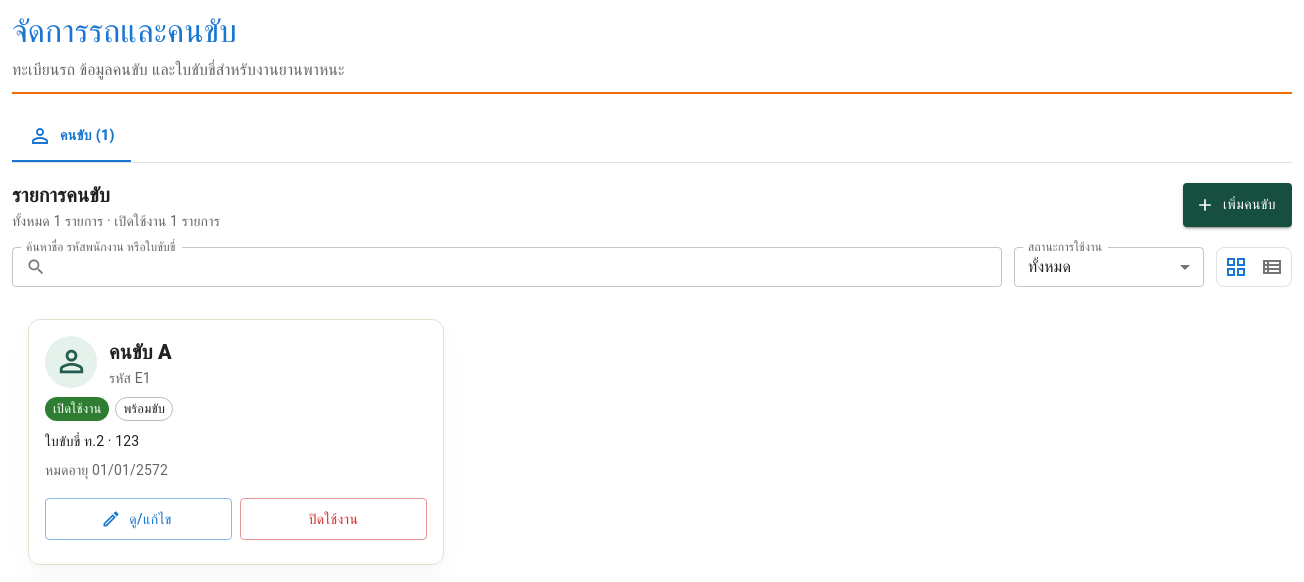
Test case: Fleet settings access and forms › keeps driver actions available after filtering by name
The image size is (1304, 582).
Expected: the heading "คนขับ A" is shown, 109,336 -> 172,368
Type "ไม่พบ" into the field labelled "ค้นหาชื่อ รหัสพนักงาน หรือใบขับขี่" at x=528, y=266, box 54,246 -> 1002,286
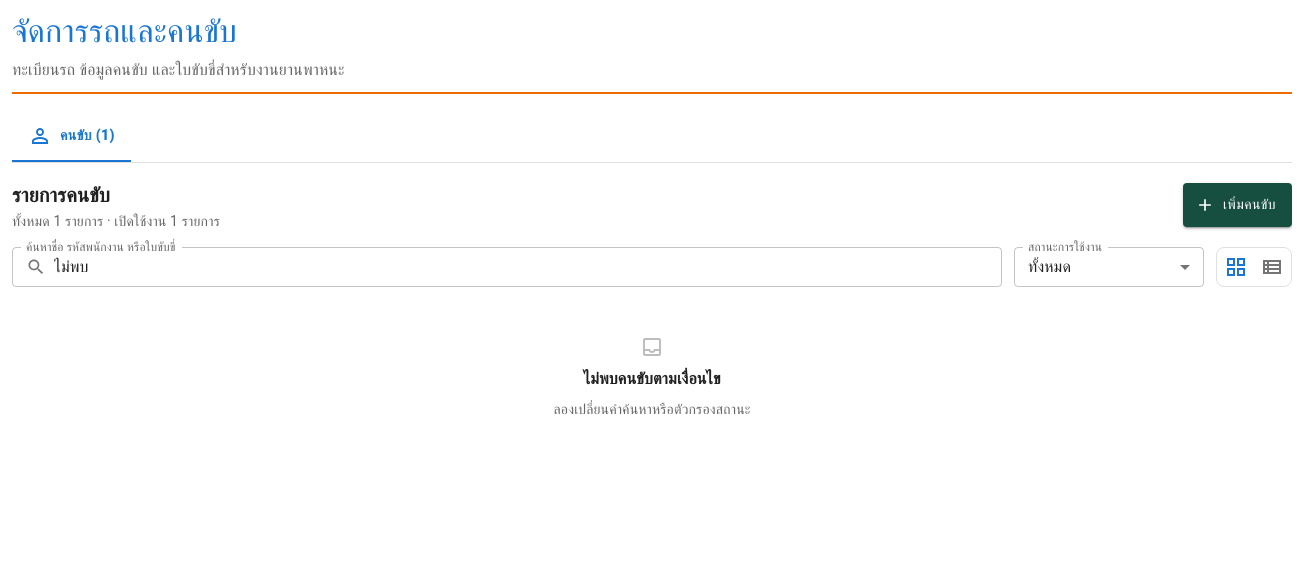
Now the text "ไม่พบคนขับตามเงื่อนไข" is shown, box 583,366 -> 721,390
Replace the text in the field labelled "ค้นหาชื่อ รหัสพนักงาน หรือใบขับขี่" with "E1" at x=528, y=266, box 54,246 -> 1002,286
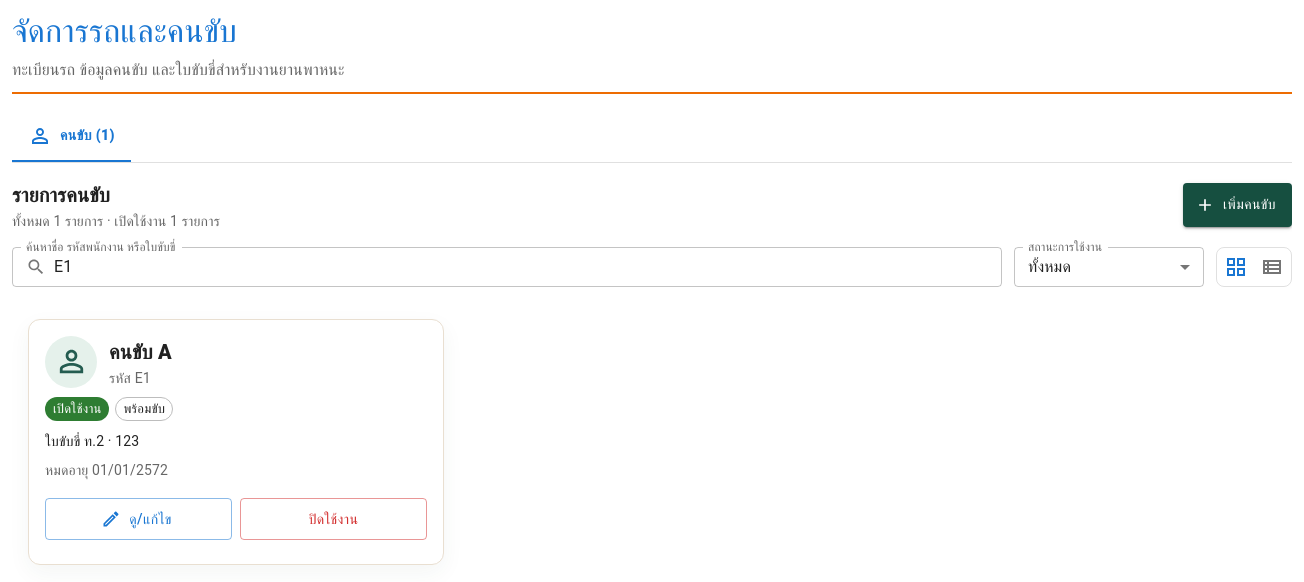
Now the button "ดู/แก้ไข" is shown, box 45,498 -> 232,540
